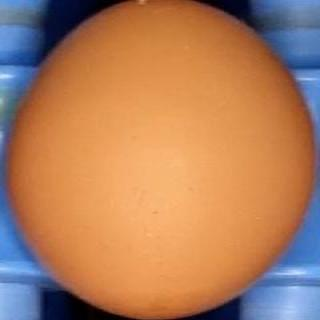Telur: (2, 1, 320, 318)
